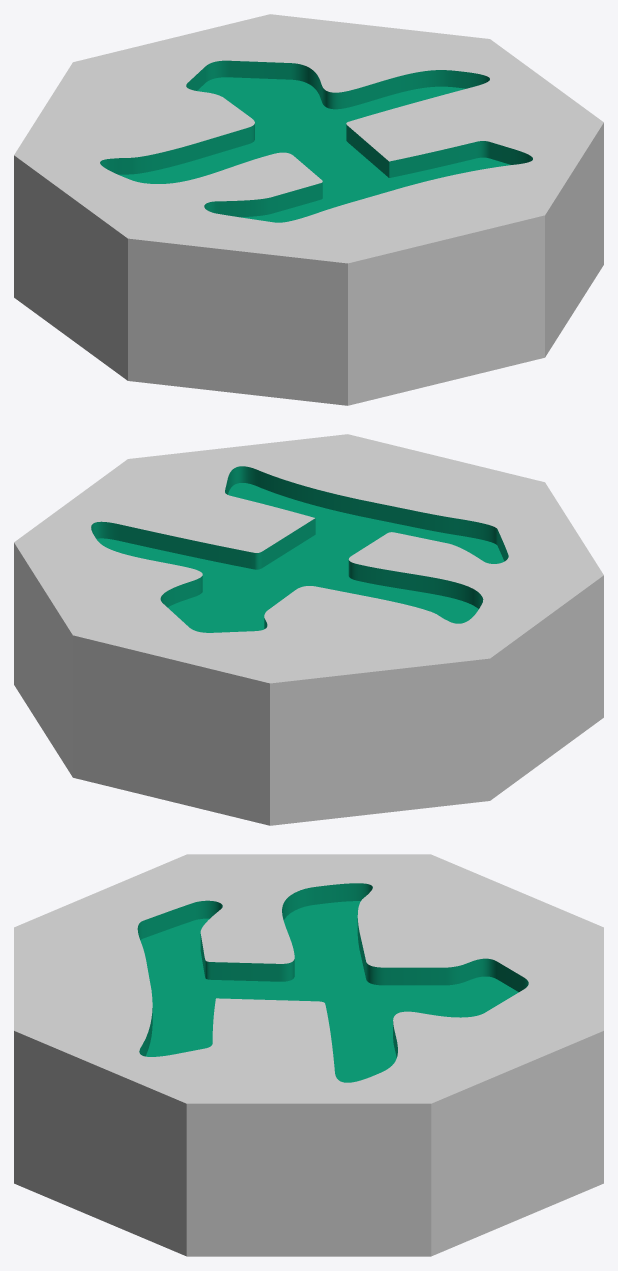
3 views of the same model, one above another, from view 1: azimuth 30°, elevation 25°; view 2: azimuth 150°, elevation 25°; view 3: azimuth 270°, elevation 25° (orthographic). The views are drawn at different scales.
Visible parts, largest first — view 1: 초_사; view 2: 초_사; view 3: 초_사.
Part boxes in pixels (x1=…): 초_사: x1=14, y1=14, x2=603, y2=405; 초_사: x1=14, y1=434, x2=603, y2=825; 초_사: x1=14, y1=854, x2=603, y2=1256.
Bounding box in the file's own units: 2100 × 600 × 2100.
